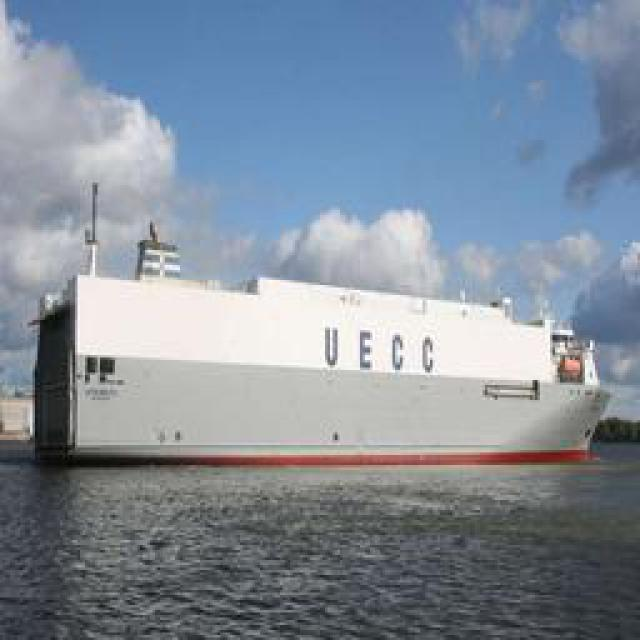Ship: (22, 250, 612, 475)
